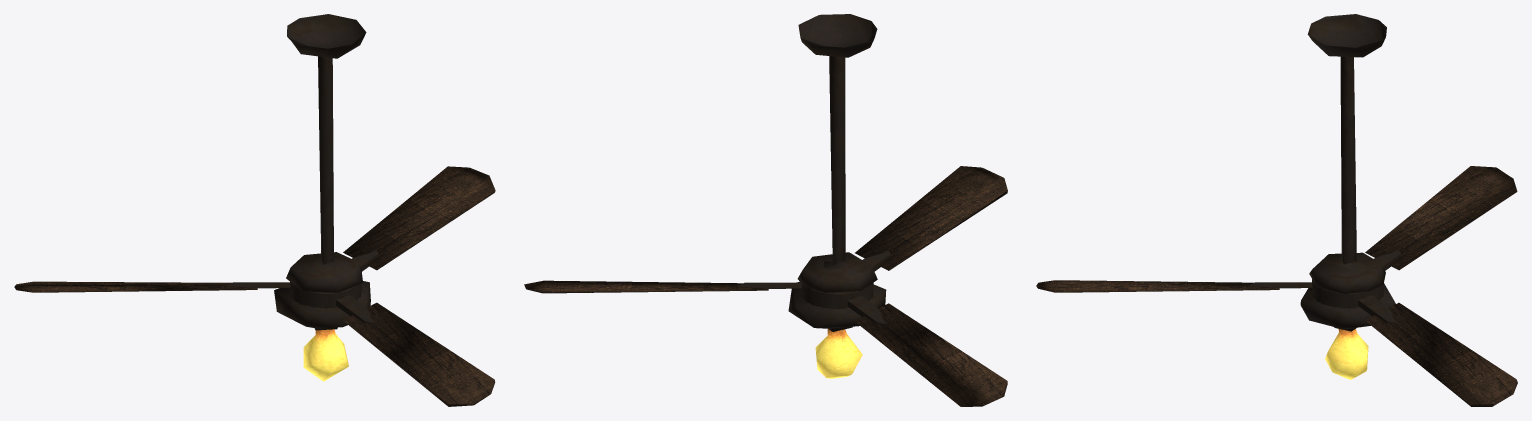
Rendered from ceiling_fan_mp_1_1_light_on.glb.
3 renders of one model, left to right at view 1: azimuth 30°, elevation 25°; view 2: azimuth 150°, elevation 25°; view 3: azimuth 270°, elevation 25°, orthographic.
Parts seen in each view (by area): view 1: ceiling_fan_mp_1_1_light_on_blades, ceiling_fan_mp_1_1_light_on; view 2: ceiling_fan_mp_1_1_light_on_blades, ceiling_fan_mp_1_1_light_on; view 3: ceiling_fan_mp_1_1_light_on_blades, ceiling_fan_mp_1_1_light_on.
Part boxes in pixels (box(x1,y1,x2,y2)): ceiling_fan_mp_1_1_light_on_blades: box(14, 166, 495, 406); ceiling_fan_mp_1_1_light_on: box(274, 14, 370, 381); ceiling_fan_mp_1_1_light_on_blades: box(524, 166, 1007, 406); ceiling_fan_mp_1_1_light_on: box(788, 14, 886, 378); ceiling_fan_mp_1_1_light_on_blades: box(1036, 166, 1517, 406); ceiling_fan_mp_1_1_light_on: box(1300, 14, 1395, 379).
Bounding box in the file's own units: 1.02 × 0.7138 × 0.8974.
Materials: 3 (3 with a texture image).
